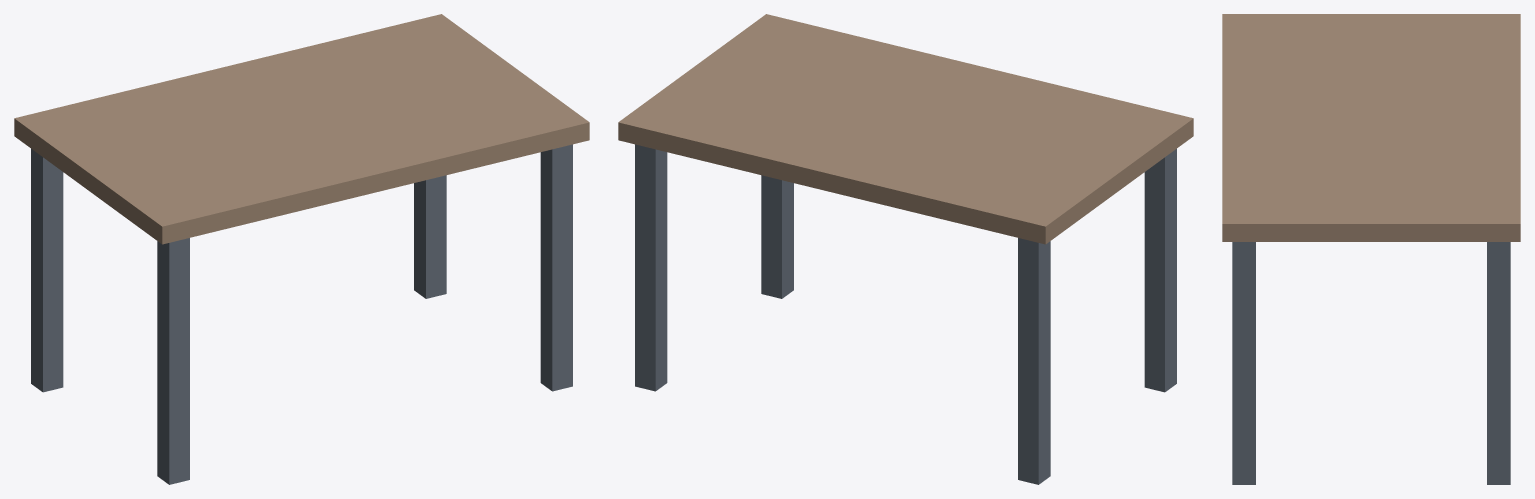
File: office_table.glb
The picture shows the model from 3 angles, left to right: view 1: azimuth 30°, elevation 25°; view 2: azimuth 150°, elevation 25°; view 3: azimuth 270°, elevation 25°; orthographic projection.
Bounding box in the file's own units: 1.25 × 0.74 × 0.75.
